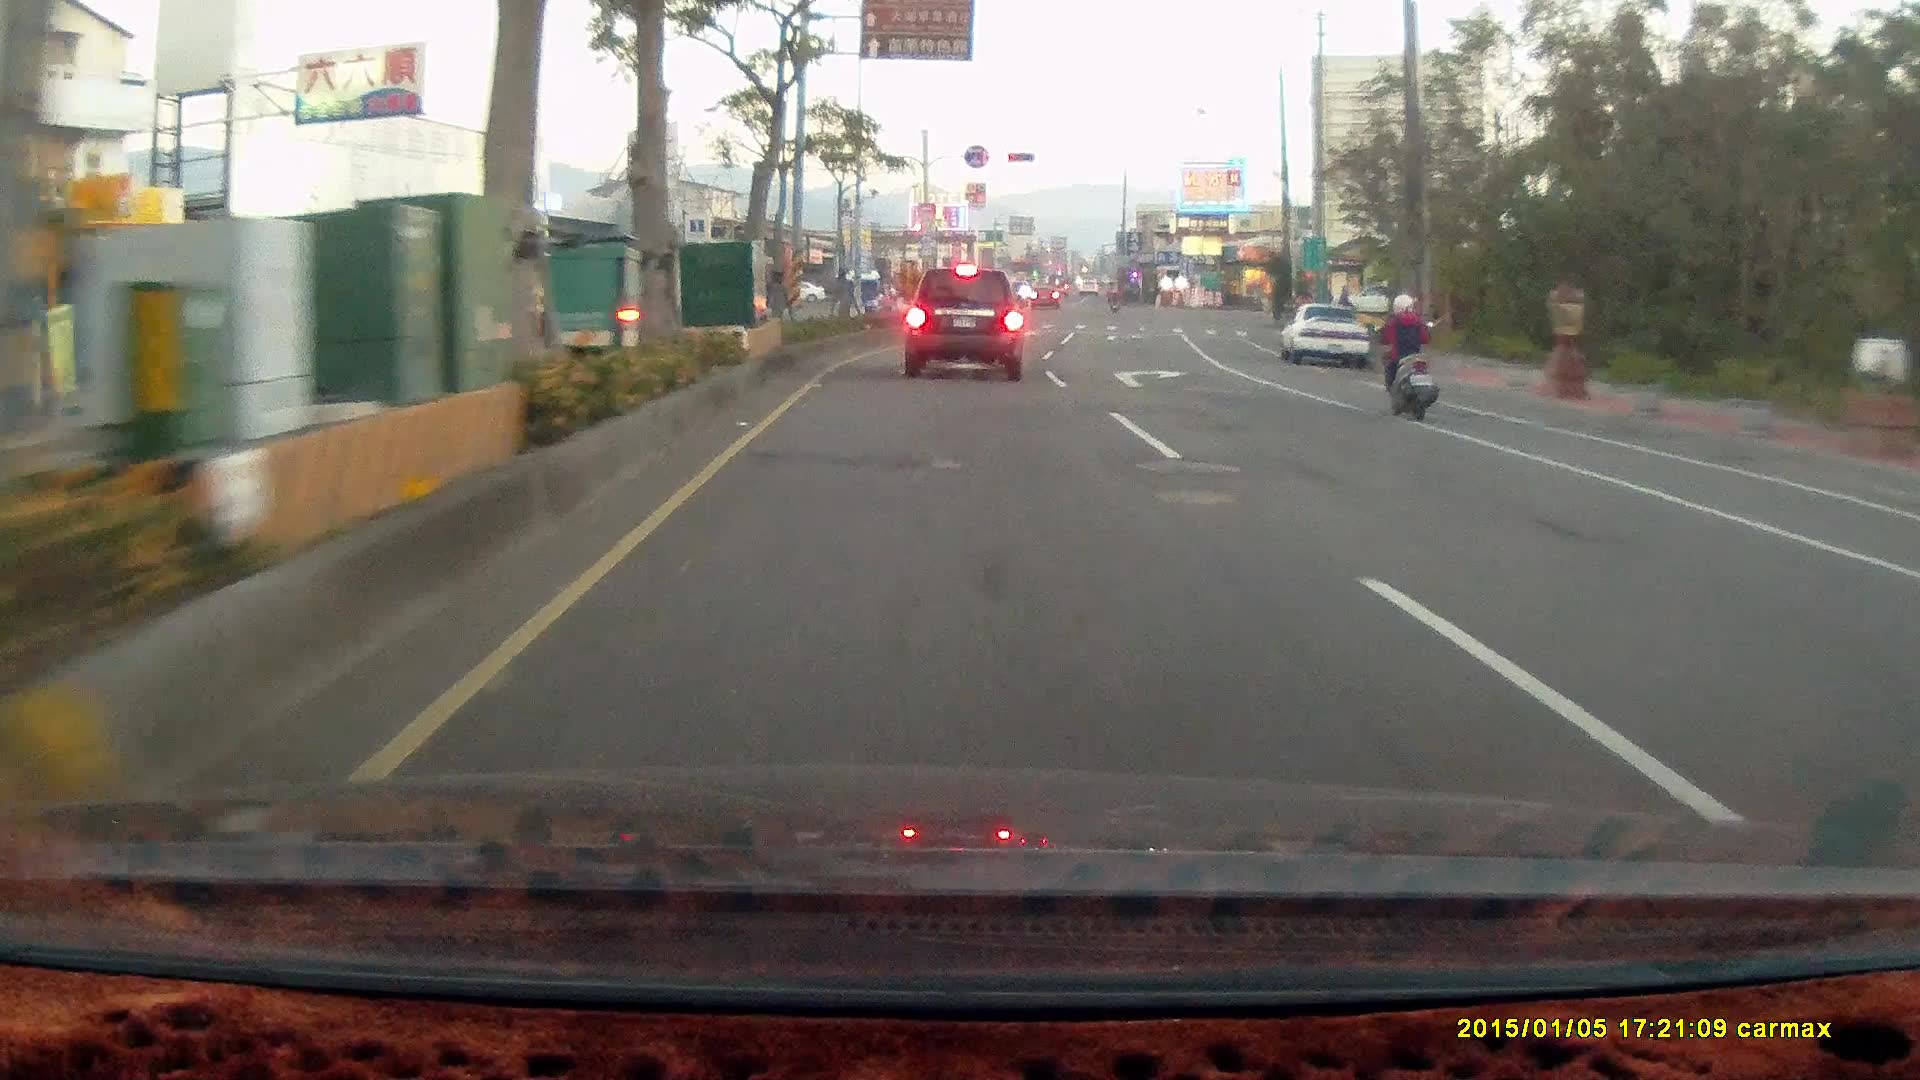rider: (1367, 287, 1439, 420)
vehicle: (901, 267, 1022, 381), (1896, 493, 1920, 836), (1276, 299, 1370, 367), (1281, 302, 1371, 370), (1883, 528, 1920, 690), (1325, 281, 1405, 317)
